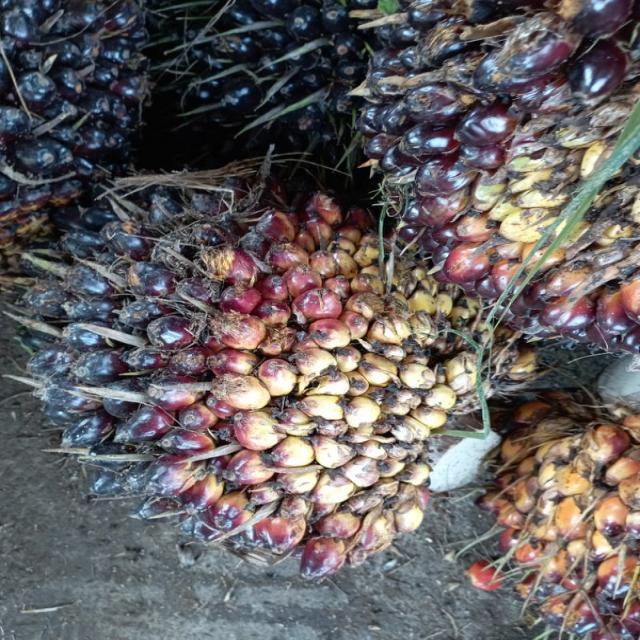fraksi 1: (0, 148, 489, 607)
